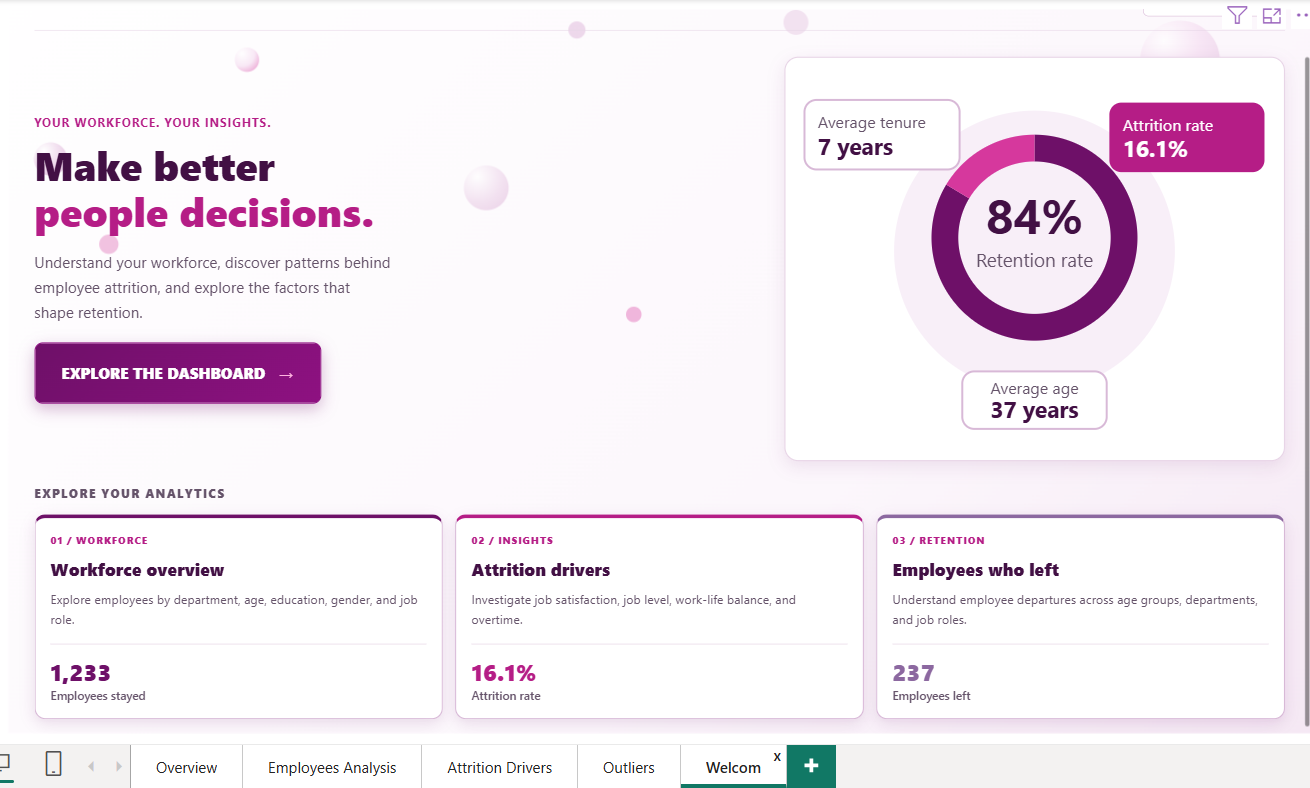

This screenshot's page, from the dashboard's own definition file:
{"tool":"powerbi","page":{"name":"Welcom","canvas":[1920,1080],"ordinal":4},"visuals":[{"type":"htmlContent443BE3AD55E043BF878BED274D3A6855","fields":{"content":["Measuers (2).Welcome Page HTML v3"]},"box":[0,0,1920,1080],"z":0},{"type":"actionButton","box":[53.3,563.3,420,98.3],"z":1000}]}

Visuals, with their boxes on the page's 1920x1080 design canvas (x1, y1, x2, y2). These are canvas units, not pixel positions in the 1310x788 screenshot, which may show the page scaled, cropped or inside an application window:
htmlContent443BE3AD55E043BF878BED274D3A6855 - Measuers (2).Welcome Page HTML v3: left=0, top=0, right=1920, bottom=1080
actionButton: left=53, top=563, right=473, bottom=662
